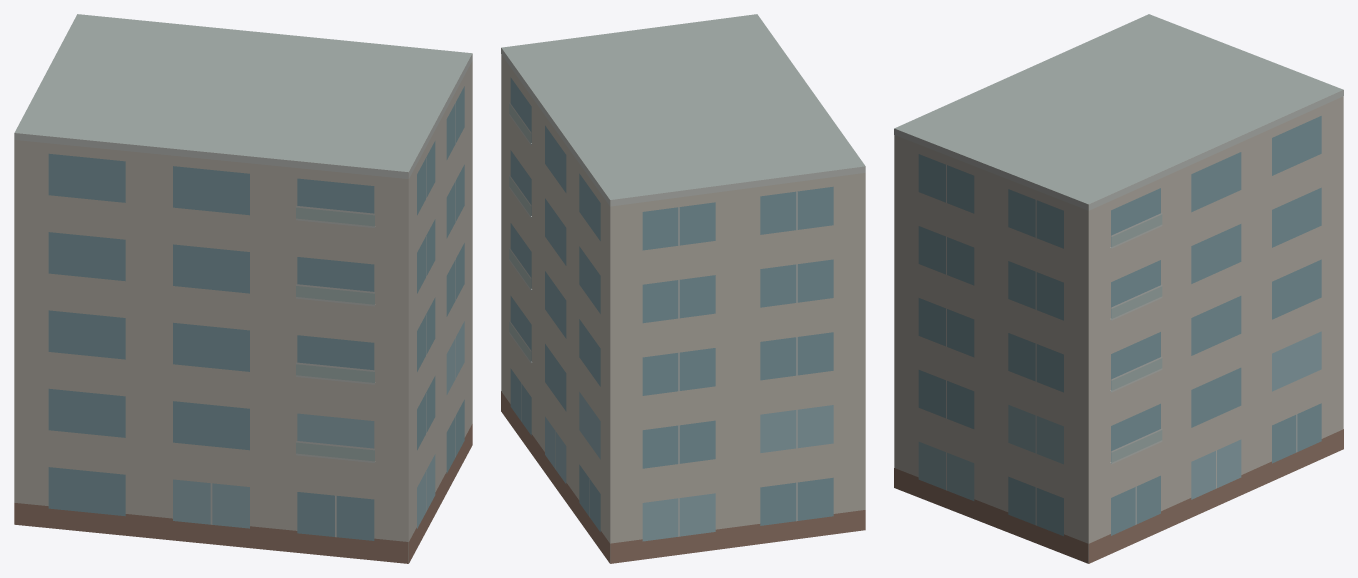
Rendered from survey-upis-32854420.glb.
3 views of the same model, side by side, from view 1: azimuth 30°, elevation 25°; view 2: azimuth 150°, elevation 25°; view 3: azimuth 270°, elevation 25° (orthographic). The views are drawn at different scales.
Parts seen in each view (by area): view 1: survey-upis-32854420.tmp; view 2: survey-upis-32854420.tmp; view 3: survey-upis-32854420.tmp.
Boxes of the visible parts, x1,y1,x2,y2 form: survey-upis-32854420.tmp: [14, 14, 472, 563]; survey-upis-32854420.tmp: [501, 14, 865, 563]; survey-upis-32854420.tmp: [894, 14, 1343, 563].
Bounding box in the file's own units: 15.58 × 13.7 × 15.54.
